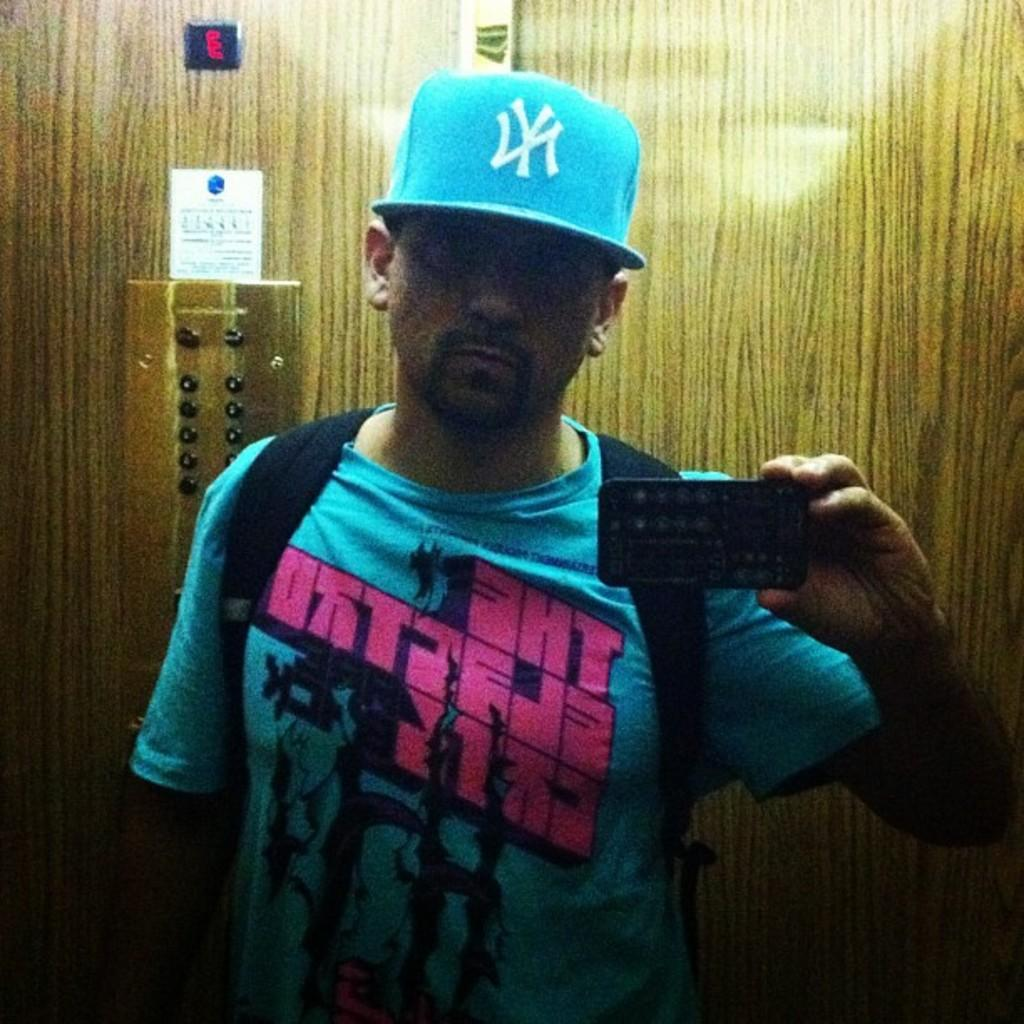Hat: (370, 62, 650, 272)
